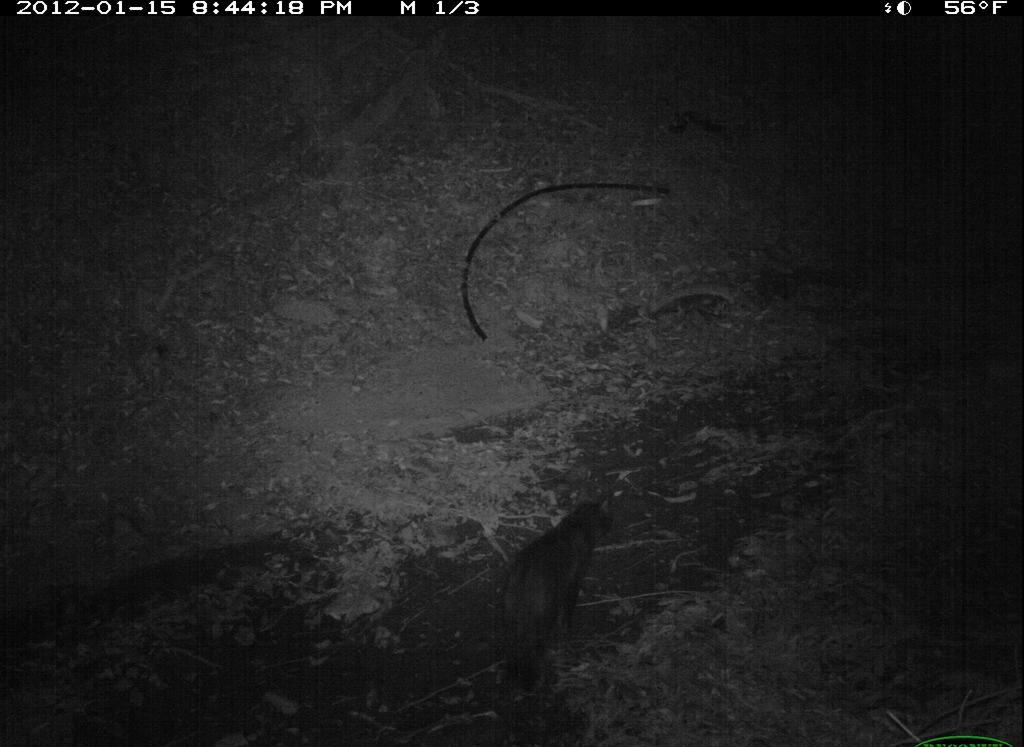cat: (470, 486, 638, 708)
